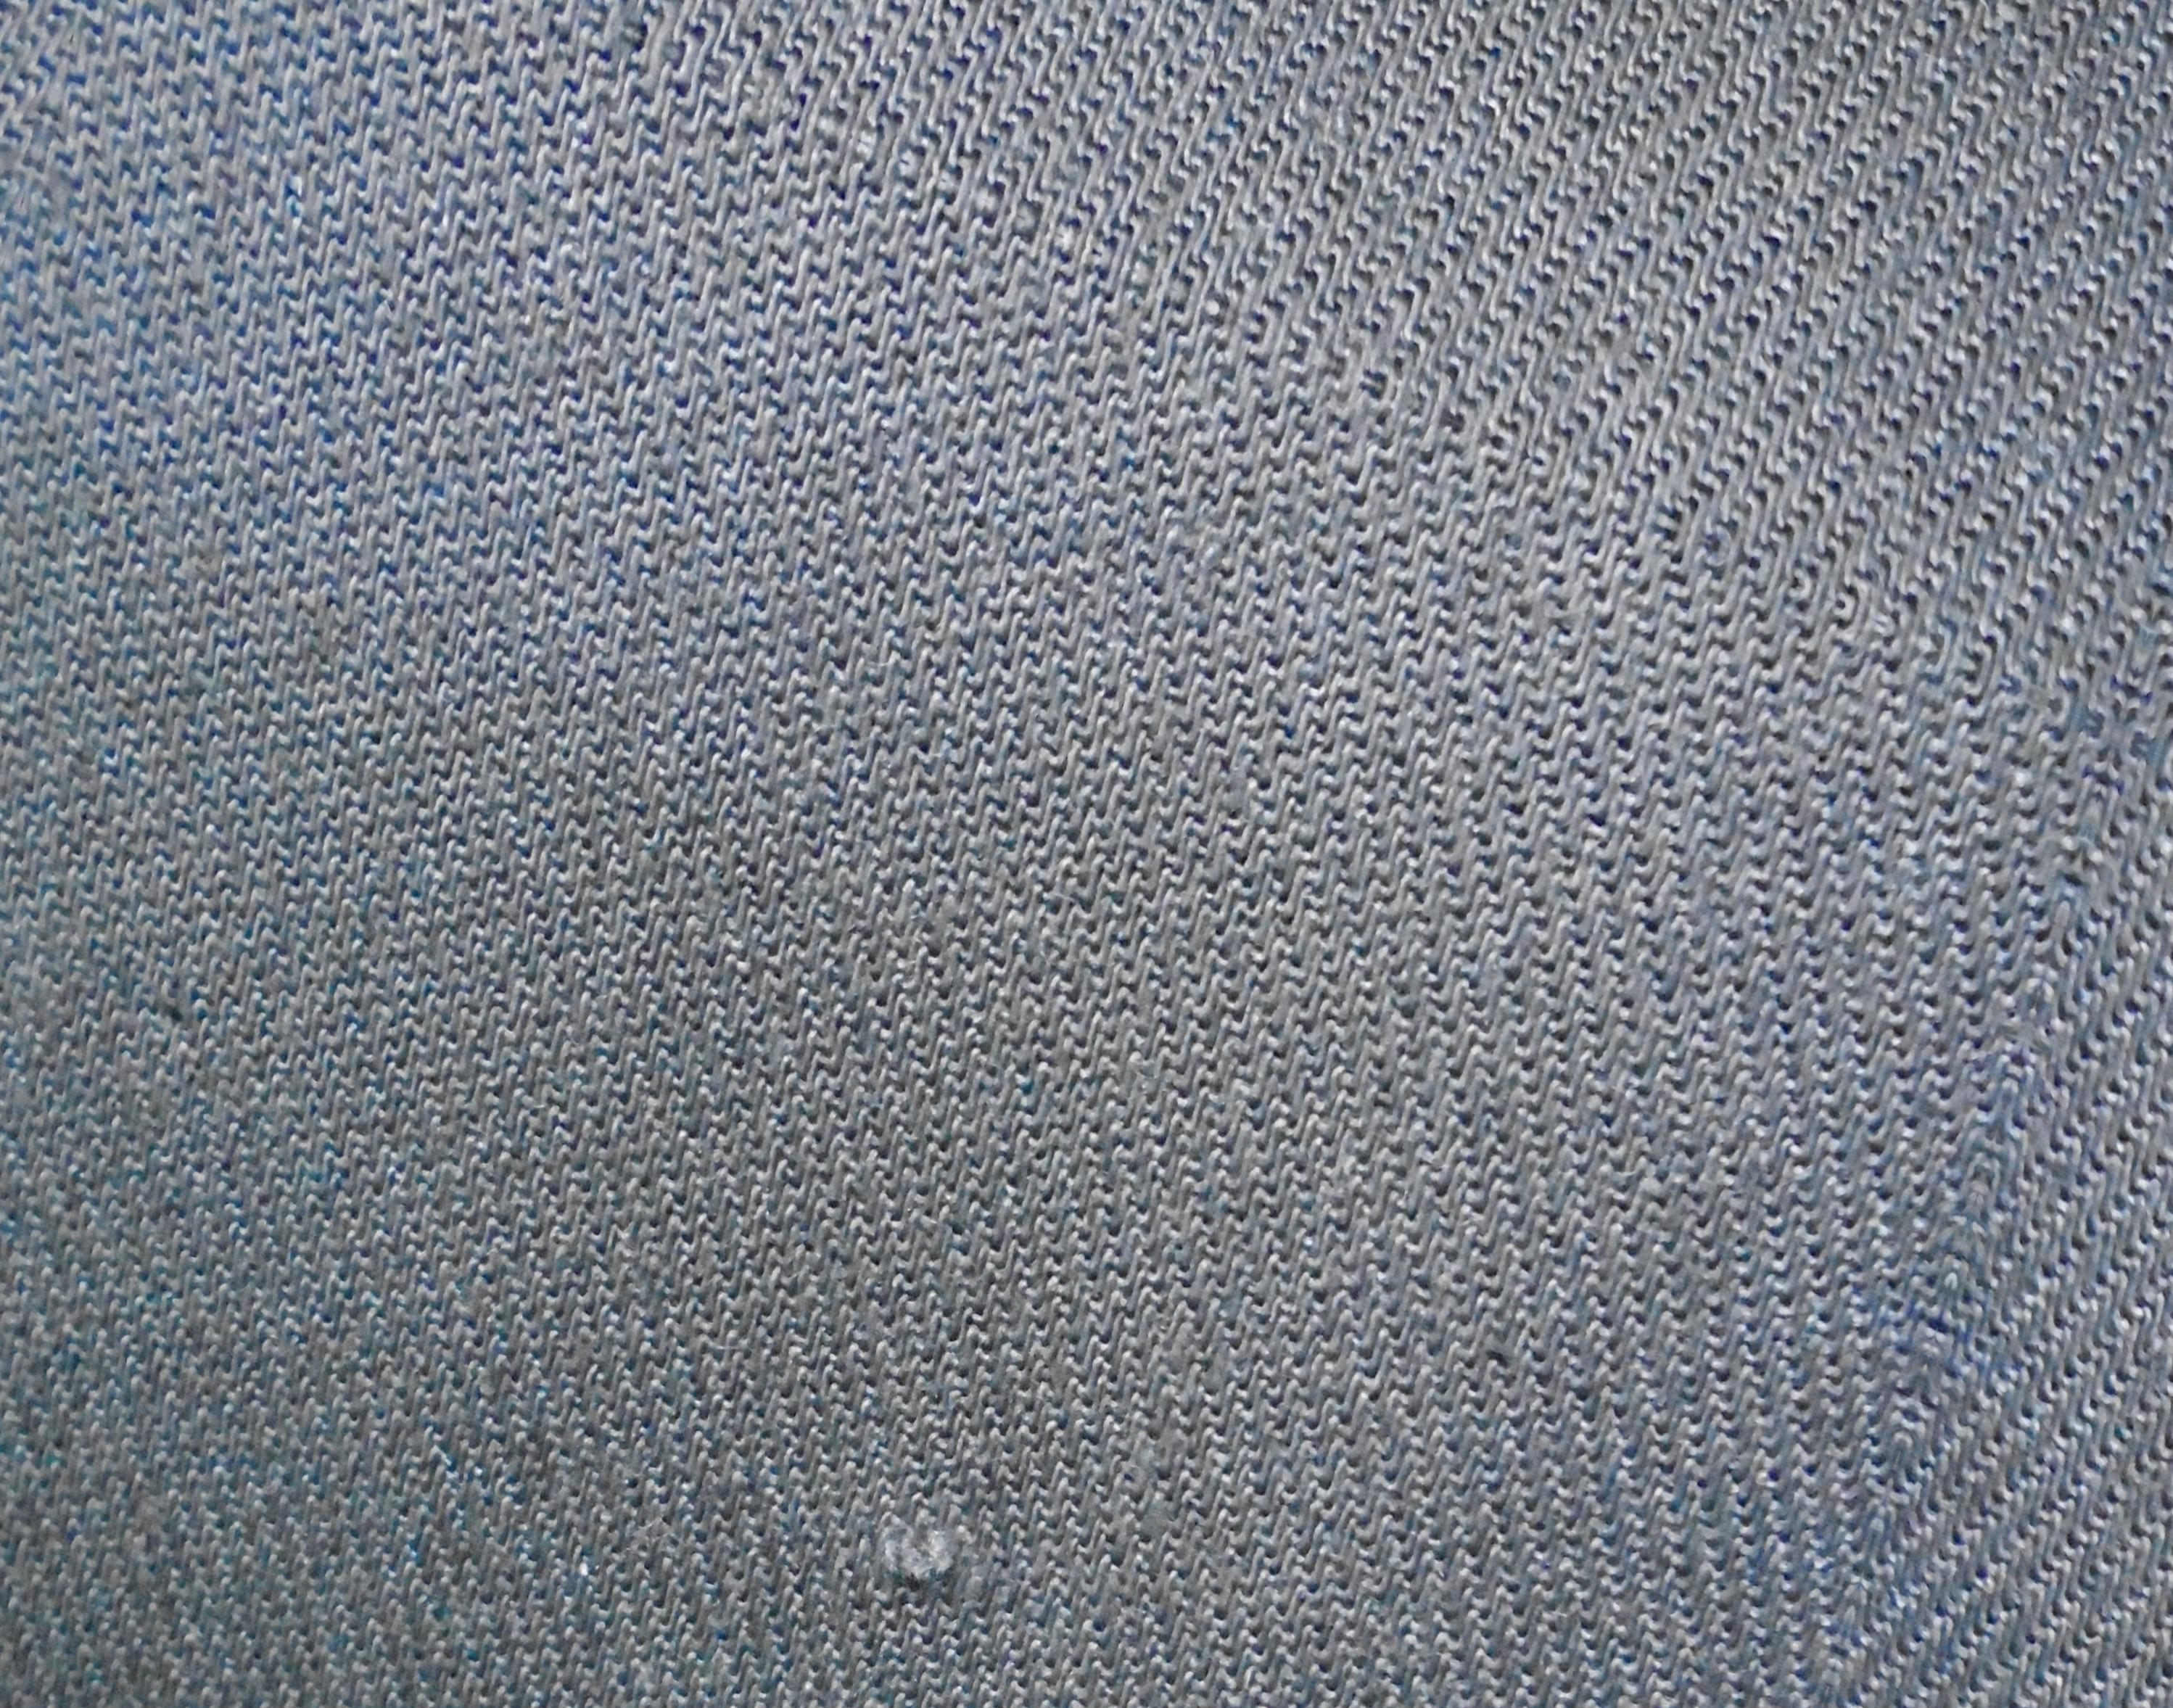knot: (831, 1510, 1007, 1625)
